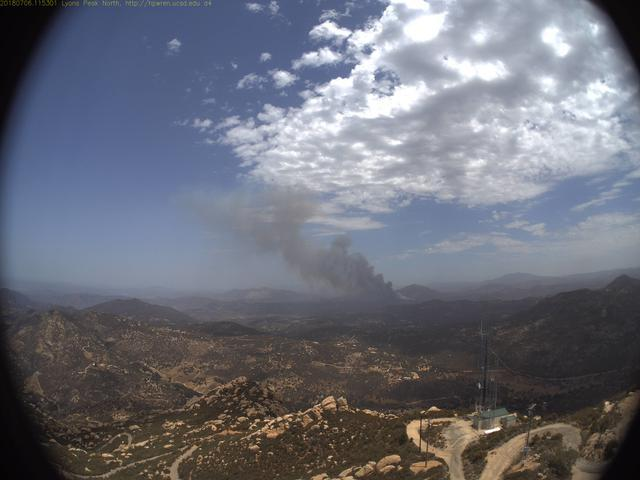smoke: (175, 173, 421, 310)
